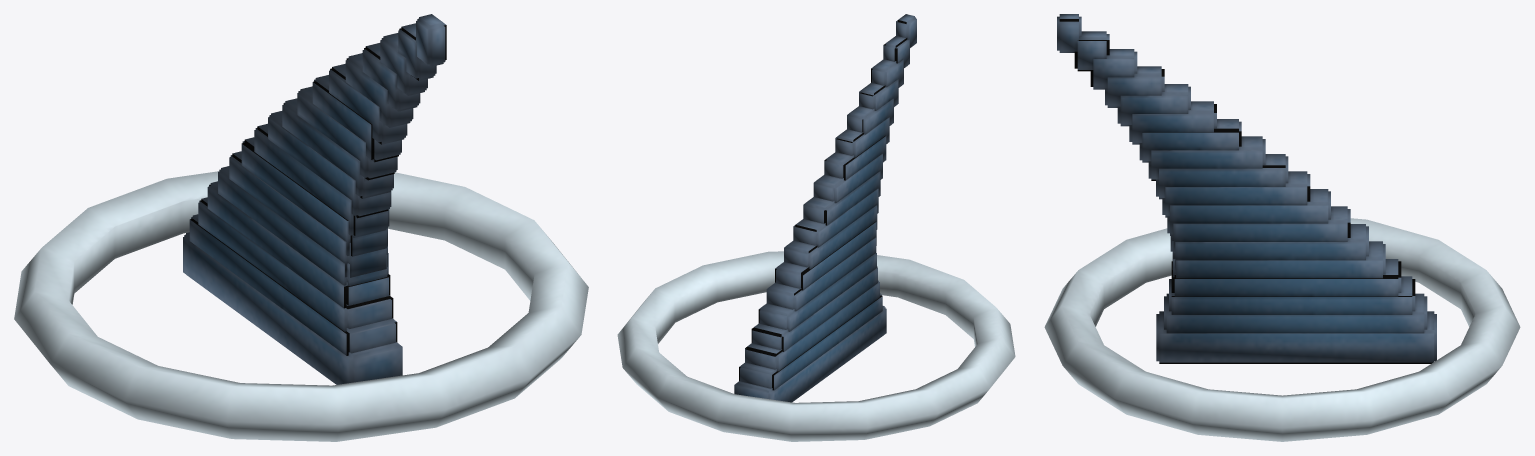
File: SharkFin.fbx
3 renders of one model, left to right at view 1: azimuth 30°, elevation 25°; view 2: azimuth 150°, elevation 25°; view 3: azimuth 270°, elevation 25°, orthographic. The views are drawn at different scales.
Parts seen in each view (by area): view 1: SharkFin; view 2: SharkFin; view 3: SharkFin.
Part boxes in pixels (box(x1,y1,x2,y2)): SharkFin: box(14, 14, 588, 441); SharkFin: box(617, 14, 1015, 441); SharkFin: box(1044, 14, 1520, 441).
Size of the model in its own units: 0.67 by 0.525 by 0.67.
